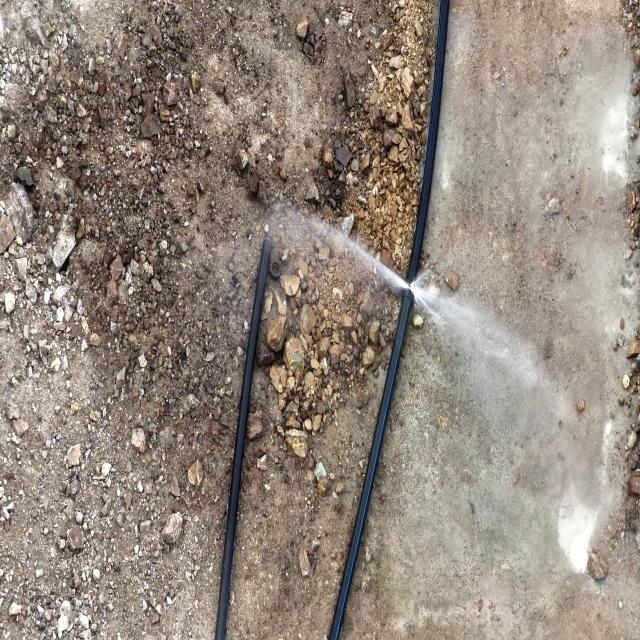leak: (290, 196, 480, 341)
